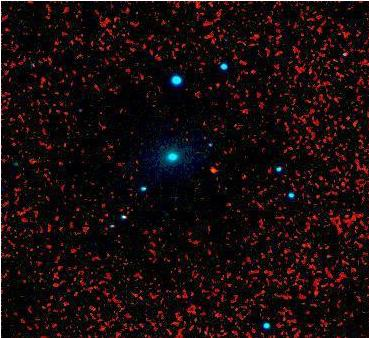star: (198, 156, 228, 186)
